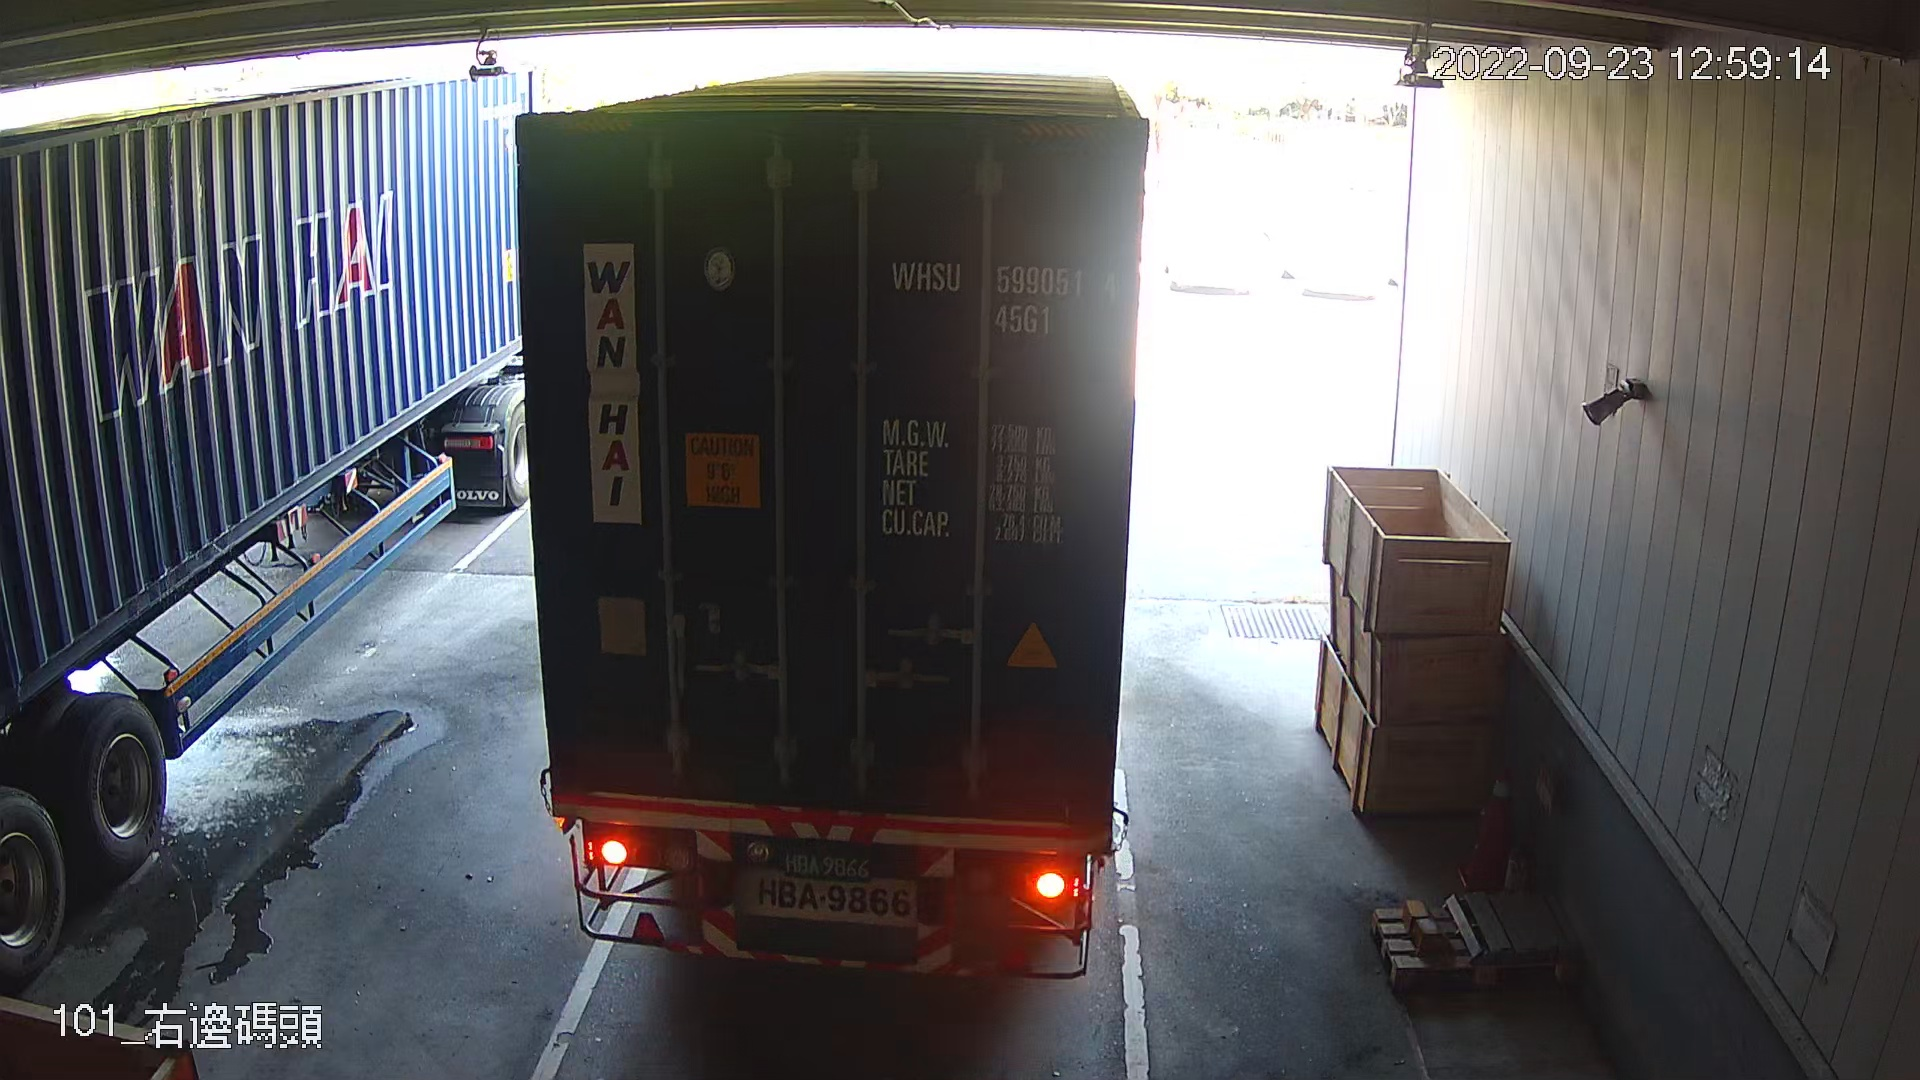container: (881, 243, 1127, 349)
